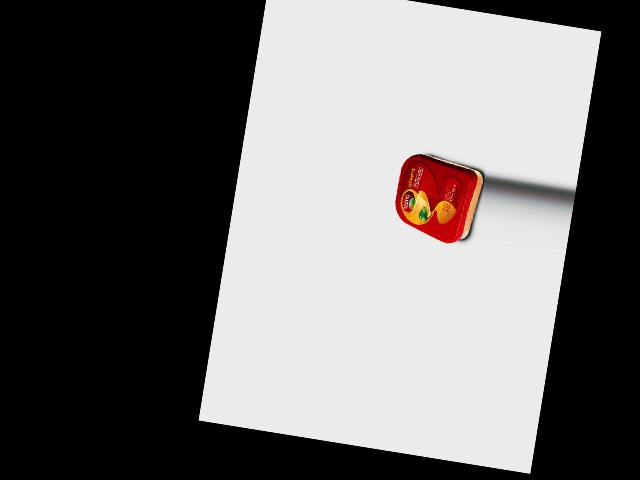cheese: (390, 151, 485, 247)
